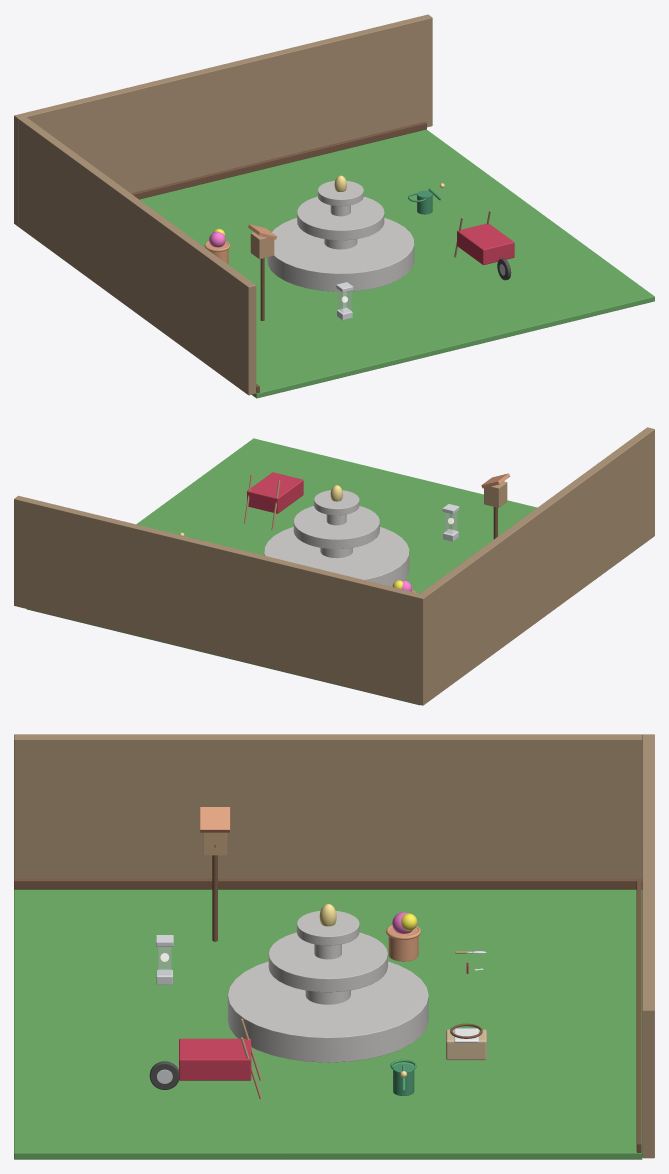
The model's file is garden.glb.
3 views of the same model, one above another, from view 1: azimuth 30°, elevation 25°; view 2: azimuth 150°, elevation 25°; view 3: azimuth 270°, elevation 25° (orthographic). The views are drawn at different scales.
Parts seen in each view (by area): view 1: Garden_Diorama, Stone_Fountain, Wheelbarrow, Birdhouse, Flower_Pot; view 2: Garden_Diorama, Stone_Fountain, Wheelbarrow, Birdhouse, Garden_Lantern; view 3: Garden_Diorama, Stone_Fountain, Wheelbarrow, Birdhouse, Picnic_Basket, Flower_Pot, Garden_Lantern, Watering_Can.
Boxes of the visible parts, <box> form: Garden_Diorama: <box>14,14,654,398</box>; Stone_Fountain: <box>267,175,414,291</box>; Wheelbarrow: <box>454,210,514,280</box>; Birdhouse: <box>248,224,277,320</box>; Flower_Pot: <box>204,228,230,264</box>; Garden_Diorama: <box>14,427,654,705</box>; Stone_Fountain: <box>264,485,409,586</box>; Wheelbarrow: <box>244,472,303,530</box>; Birdhouse: <box>481,473,510,539</box>; Garden_Lantern: <box>442,504,459,541</box>; Garden_Diorama: <box>14,734,654,1159</box>; Stone_Fountain: <box>227,904,428,1062</box>; Wheelbarrow: <box>149,1018,262,1099</box>; Birdhouse: <box>200,807,230,941</box>; Picnic_Basket: <box>446,1023,486,1060</box>; Flower_Pot: <box>386,912,421,961</box>; Garden_Lantern: <box>156,935,173,984</box>; Watering_Can: <box>390,1059,416,1095</box>.
Bounding box in the file's own units: 10.4 × 2.78 × 10.2.
